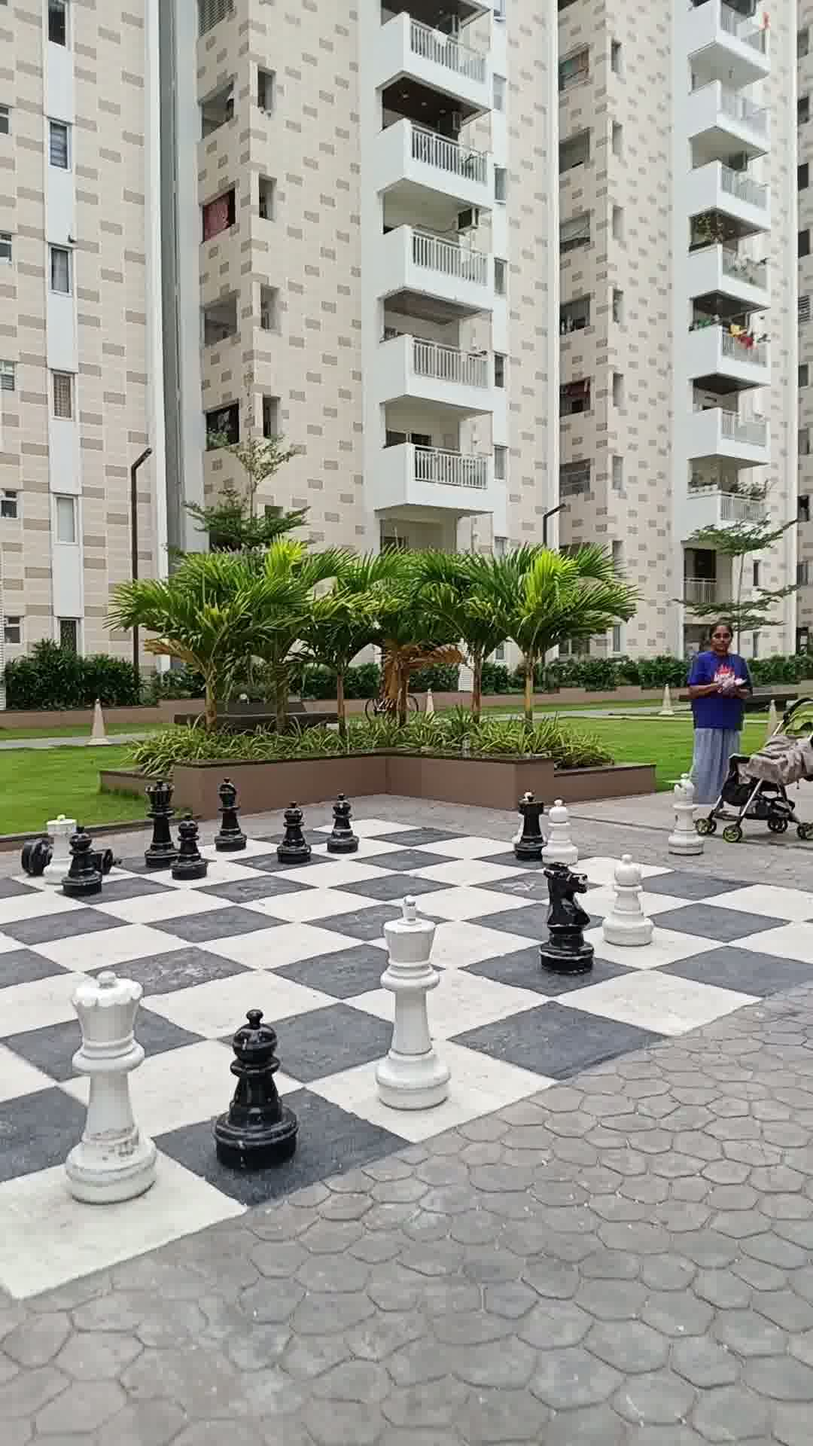person: (689, 606, 751, 820)
tree: (242, 535, 378, 751), (131, 549, 265, 751), (185, 373, 322, 552), (703, 467, 813, 666), (509, 535, 606, 751), (435, 541, 526, 746), (356, 544, 450, 737)
